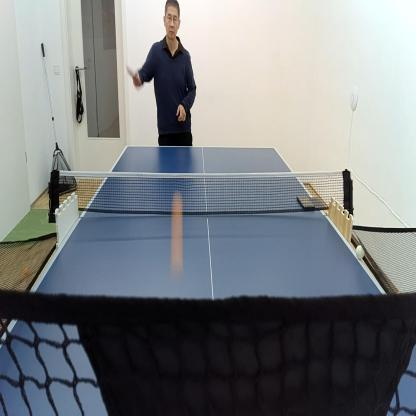Ball: (170, 193, 182, 270), (357, 244, 363, 258)
